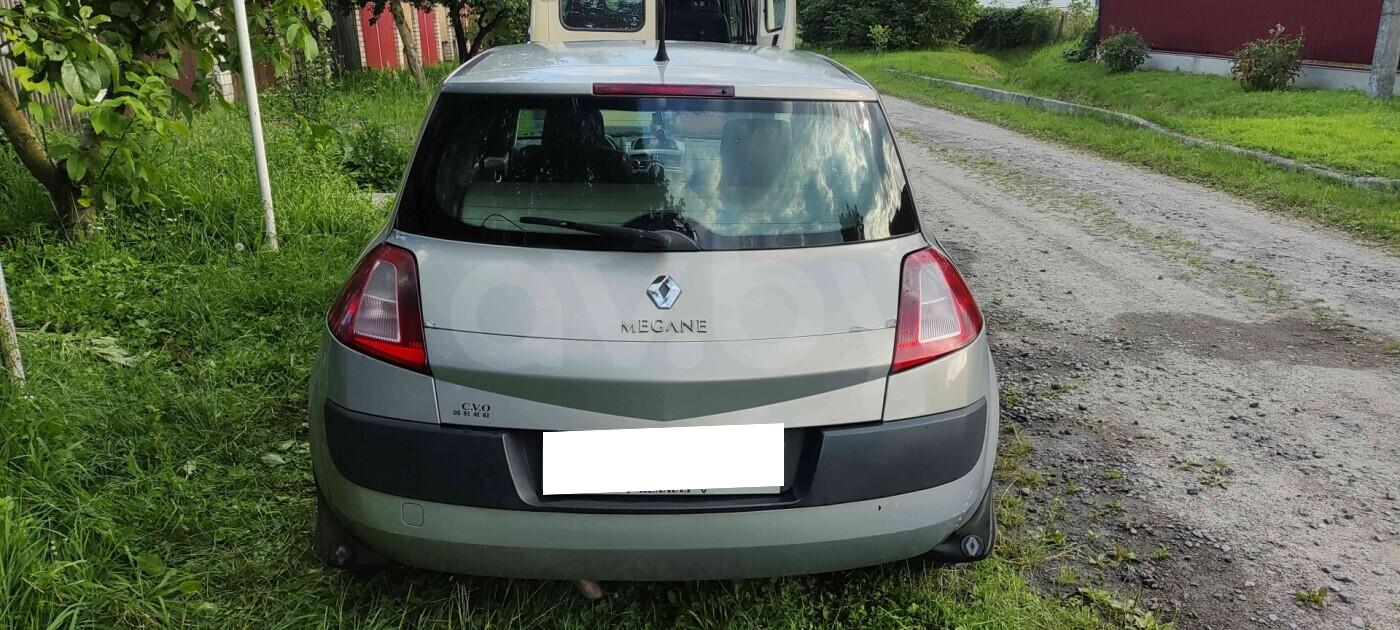Megane_2002-2006: (305, 41, 1013, 587)
